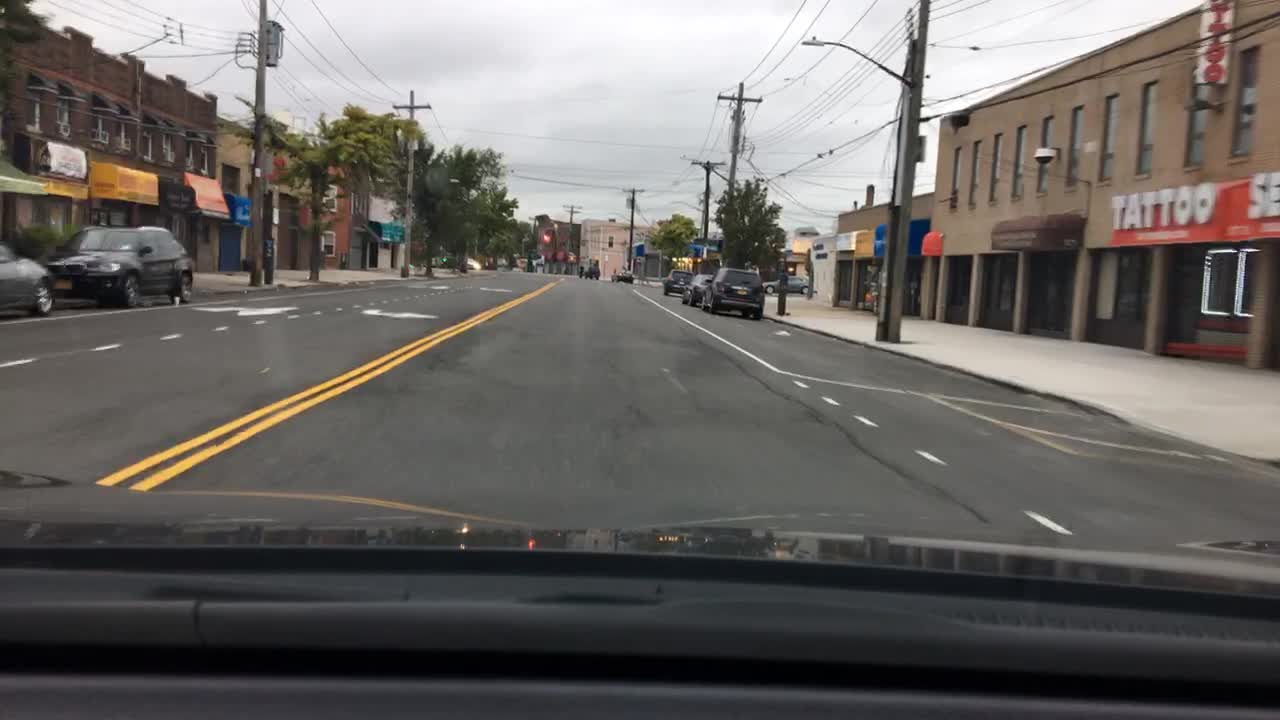car: (49, 225, 194, 309), (0, 242, 54, 314), (701, 265, 767, 318), (762, 274, 813, 295), (682, 273, 712, 306), (662, 269, 694, 295), (611, 269, 634, 284), (584, 263, 601, 280), (432, 255, 452, 268), (463, 257, 481, 270)
person: (577, 265, 586, 278)
traffic light: (439, 254, 449, 264), (542, 232, 549, 242)
traffic sign: (380, 221, 404, 242)
